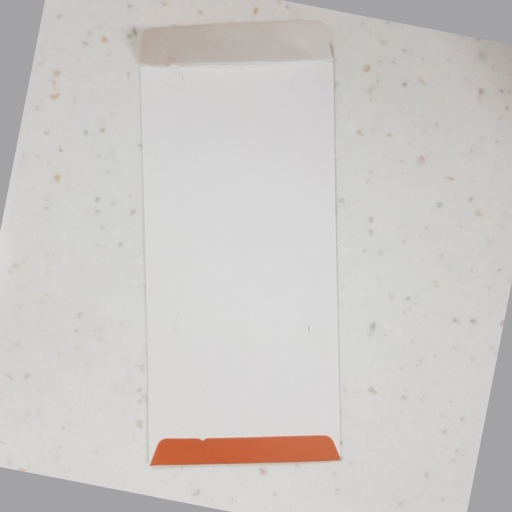Paper_2: (132, 18, 349, 474)
